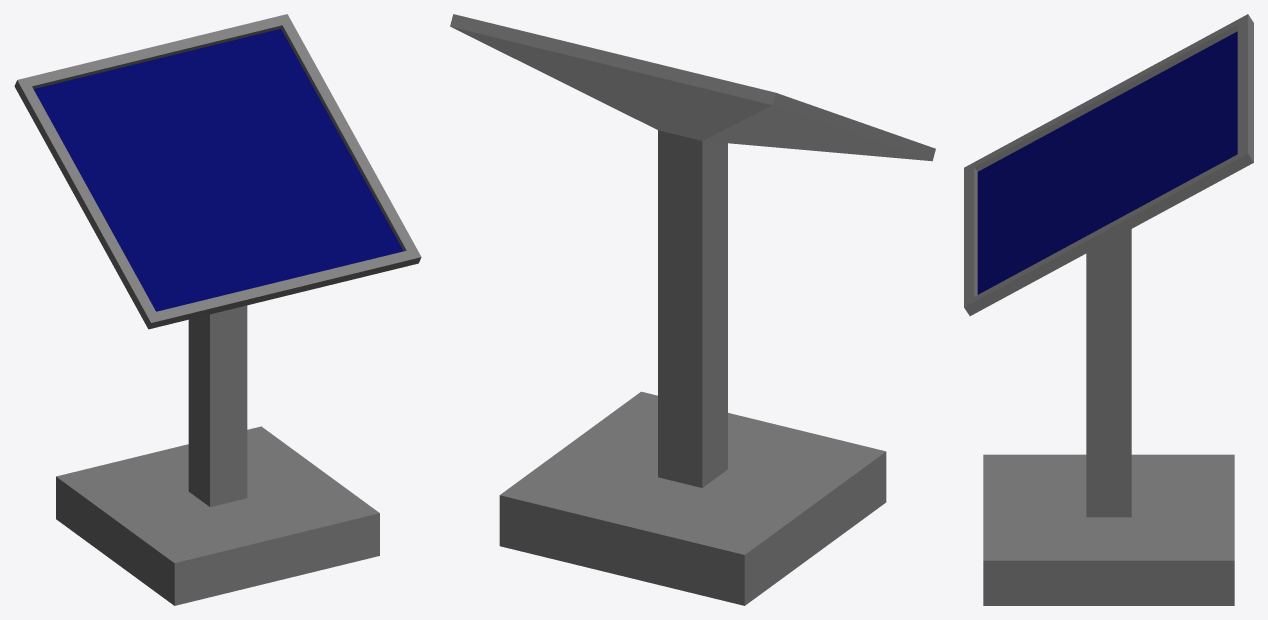
Rendered from Console.fbx.
The picture shows the model from 3 angles, left to right: view 1: azimuth 30°, elevation 25°; view 2: azimuth 150°, elevation 25°; view 3: azimuth 270°, elevation 25°; orthographic projection. The views are drawn at different scales.
Parts seen in each view (by area): view 1: Cube; view 2: Cube; view 3: Cube.
Boxes of the visible parts, x1,y1,x2,y2 form: Cube: (14,14,421,605); Cube: (450,14,935,605); Cube: (964,14,1253,605).
Size of the model in its own units: 263 by 412 by 231.
